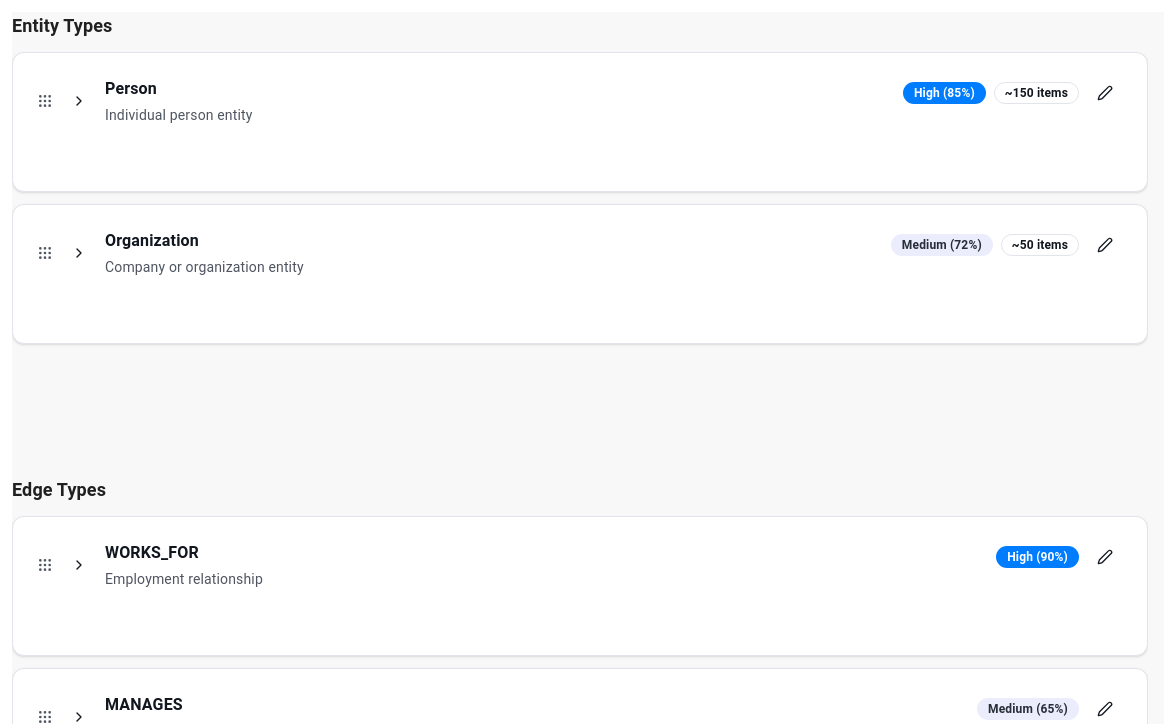
Scenario: TypeReviewPanel › shows attributes when entity is expanded
Click the 1st button at (79, 101), box [61,93,97,109]
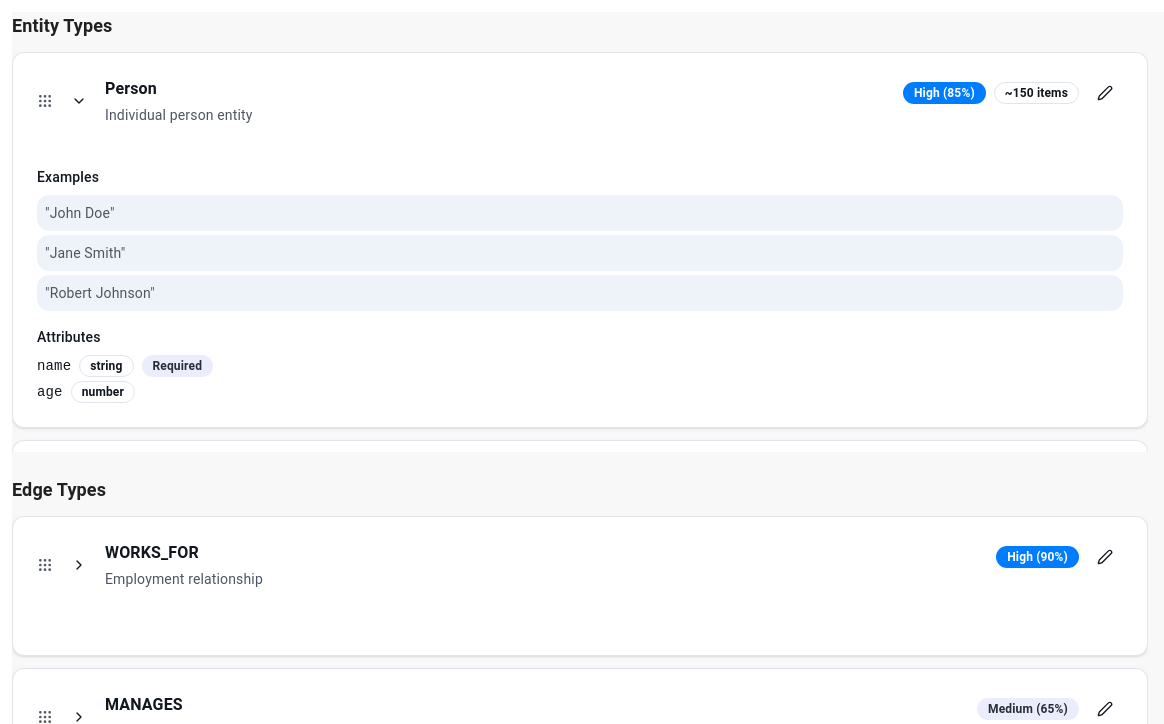
Expected: the heading "Attributes" is shown, [37,329,101,345]
Expected: the text "name" is shown, [37,356,71,376]
Expected: the text "string" is shown, [79,355,134,377]
